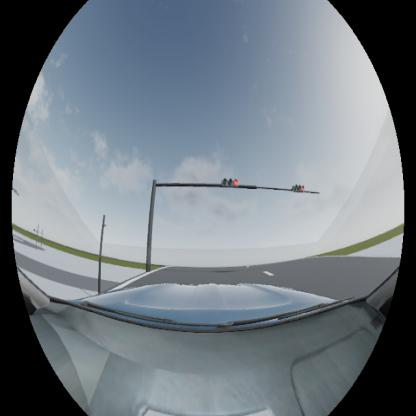Red Light: (221, 178, 239, 188), (290, 184, 305, 192)
